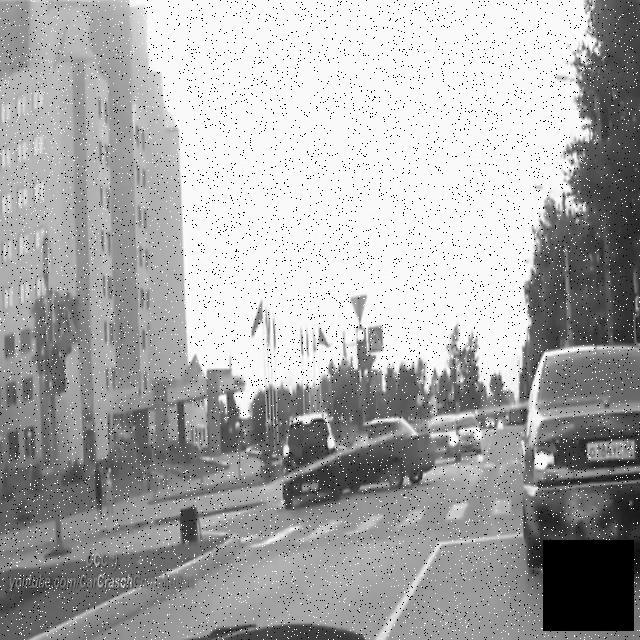moderate: (276, 398, 436, 510)
